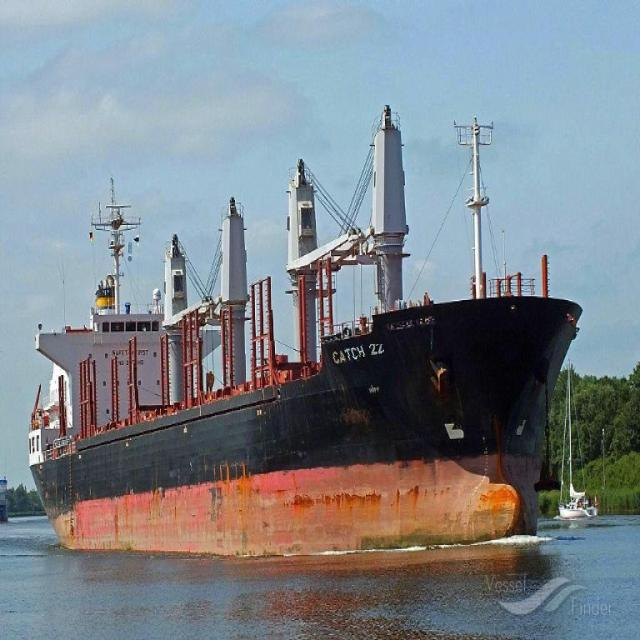OCR: (328, 344, 395, 368)
